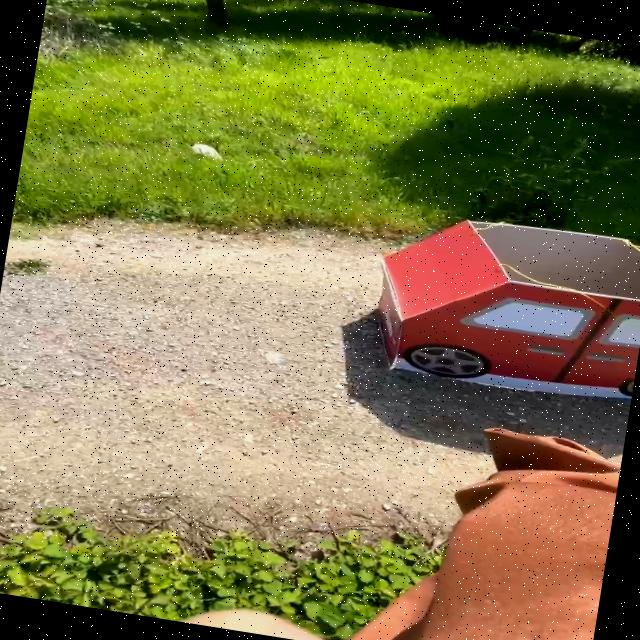red_car: (352, 189, 640, 424)
